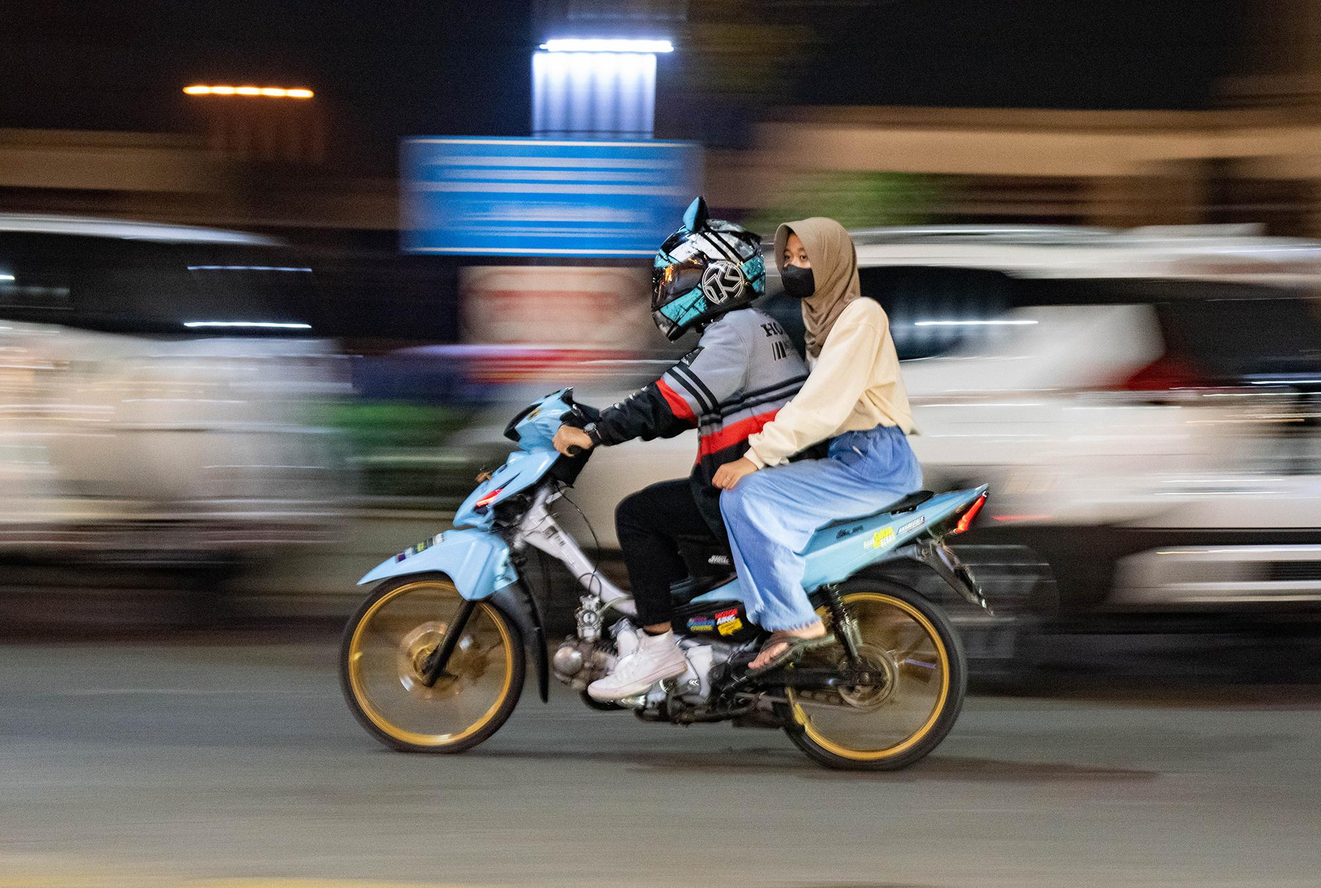helmet: (650, 194, 767, 344)
nohelmet: (773, 215, 862, 302)
